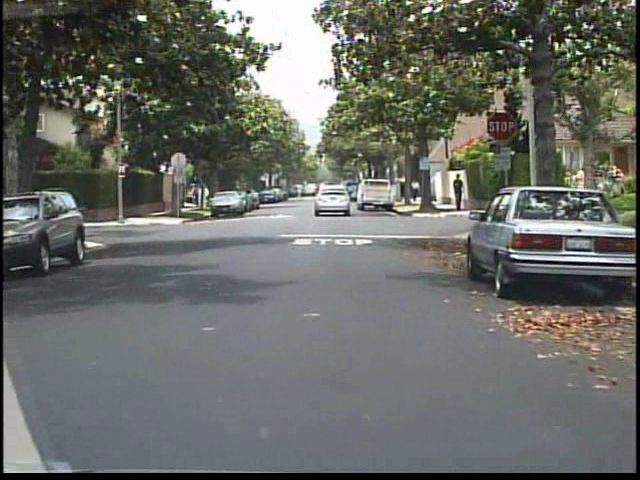person: (449, 172, 471, 216), (411, 177, 422, 205)
